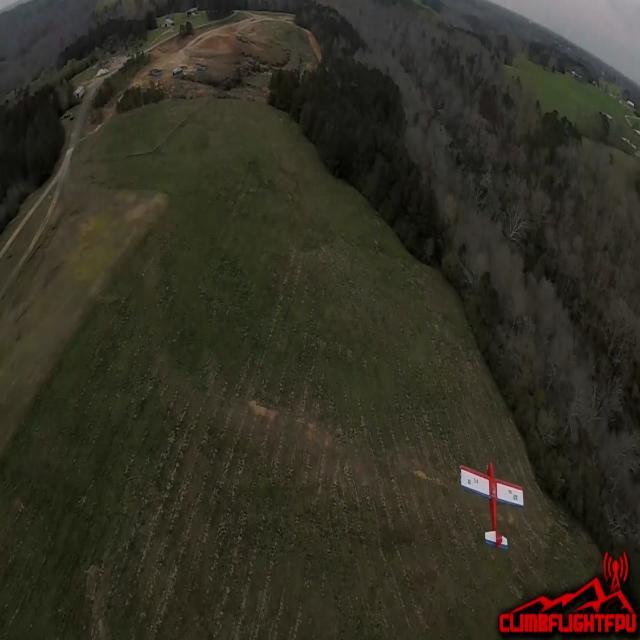iha: (476, 494, 507, 524)
